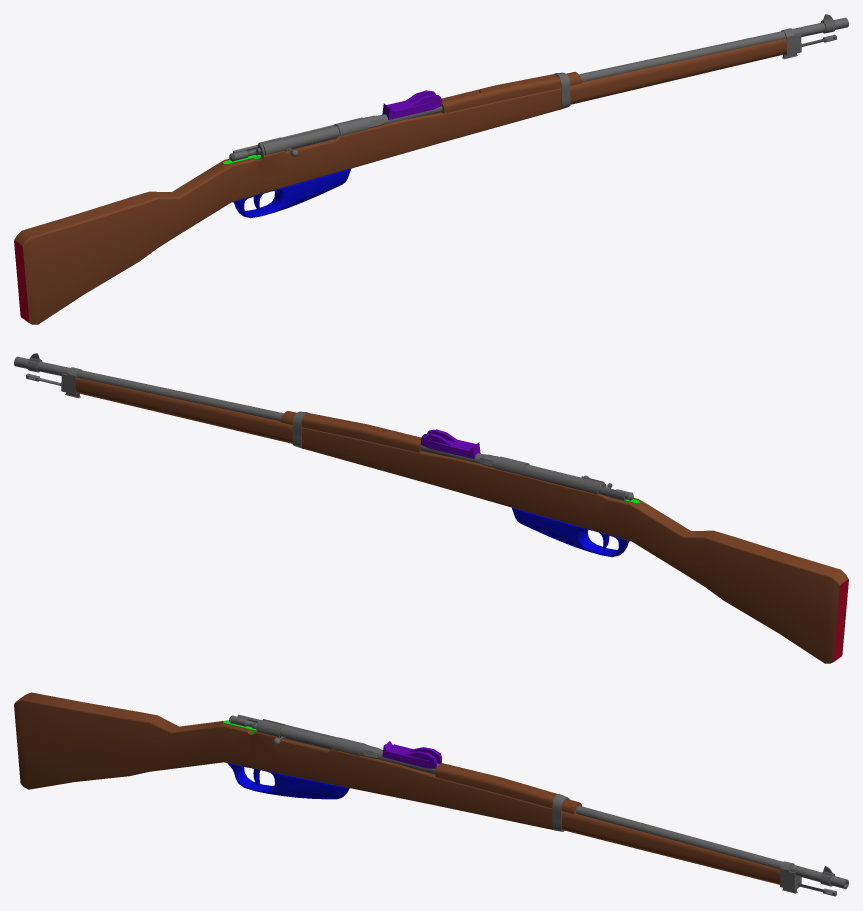
File: CarcanoFix.fbx
3 renders of one model, top to bottom at view 1: azimuth 30°, elevation 25°; view 2: azimuth 150°, elevation 25°; view 3: azimuth 330°, elevation 25°, orthographic.
Parts seen in each view (by area): view 1: Base, Sicura, Canna, Grilletto; view 2: Base, Sicura, Canna, Grilletto; view 3: Base, Sicura, Canna, Grilletto.
Part boxes in pixels (x1,y1,x2,y2): Base: (14, 38, 786, 324); Sicura: (229, 90, 442, 161); Canna: (579, 14, 848, 81); Grilletto: (233, 168, 350, 218); Base: (76, 377, 848, 663); Sicura: (420, 429, 633, 501); Canna: (14, 353, 283, 420); Grilletto: (512, 507, 629, 557); Base: (14, 692, 780, 884); Sicura: (229, 714, 442, 774); Canna: (576, 805, 848, 896); Grilletto: (227, 763, 349, 799).
Bounding box in the file's own units: 127 × 19.32 × 4.23.
